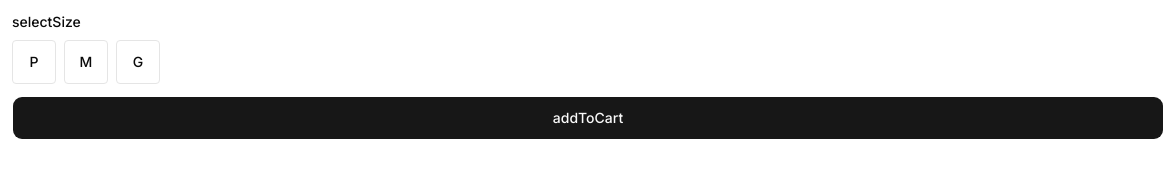
Test: AddToCartButton › shows sizeRequired error when "addToCart" is clicked without selecting a size
The width and height of the screenshot is (1176, 188).
Step 1. Click the button "addToCart" → [588, 118], box [12,96,1164,140]
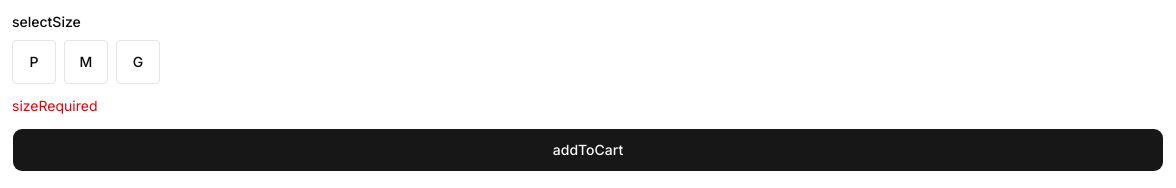
Expected: the text "sizeRequired" is shown, [12,97,98,114]
